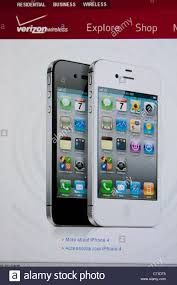iphone: (87, 57, 161, 227)
